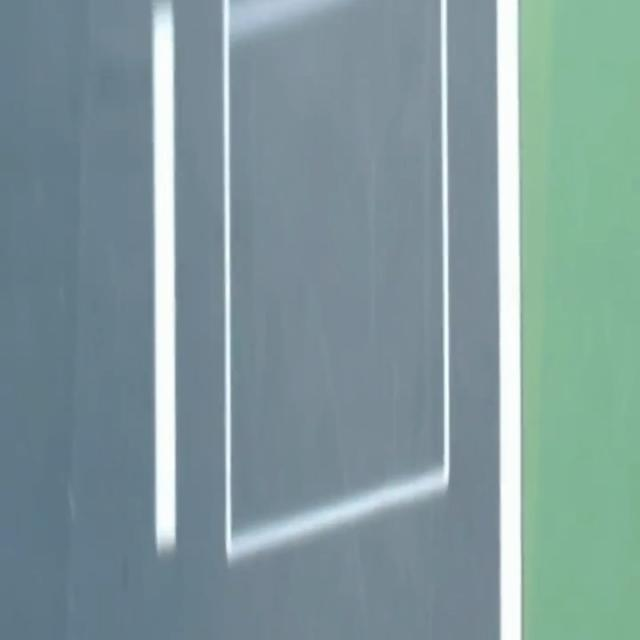center: (154, 4, 176, 553)
right: (497, 0, 521, 639)
